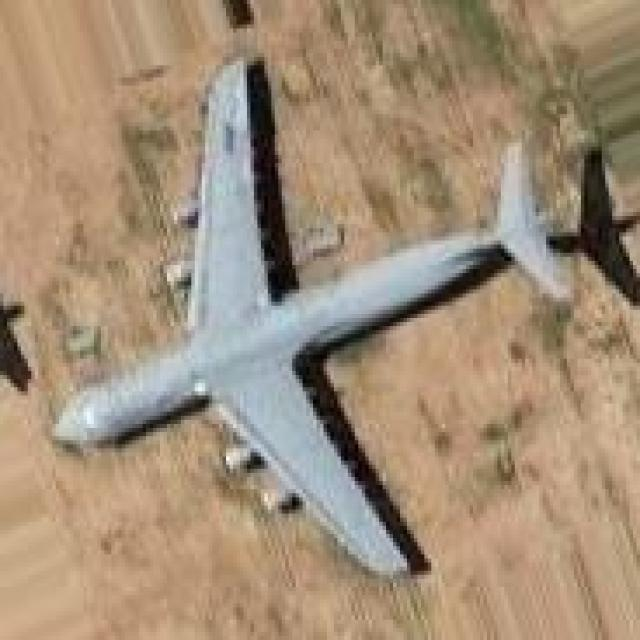C-5_TopDown: (47, 52, 634, 580)
